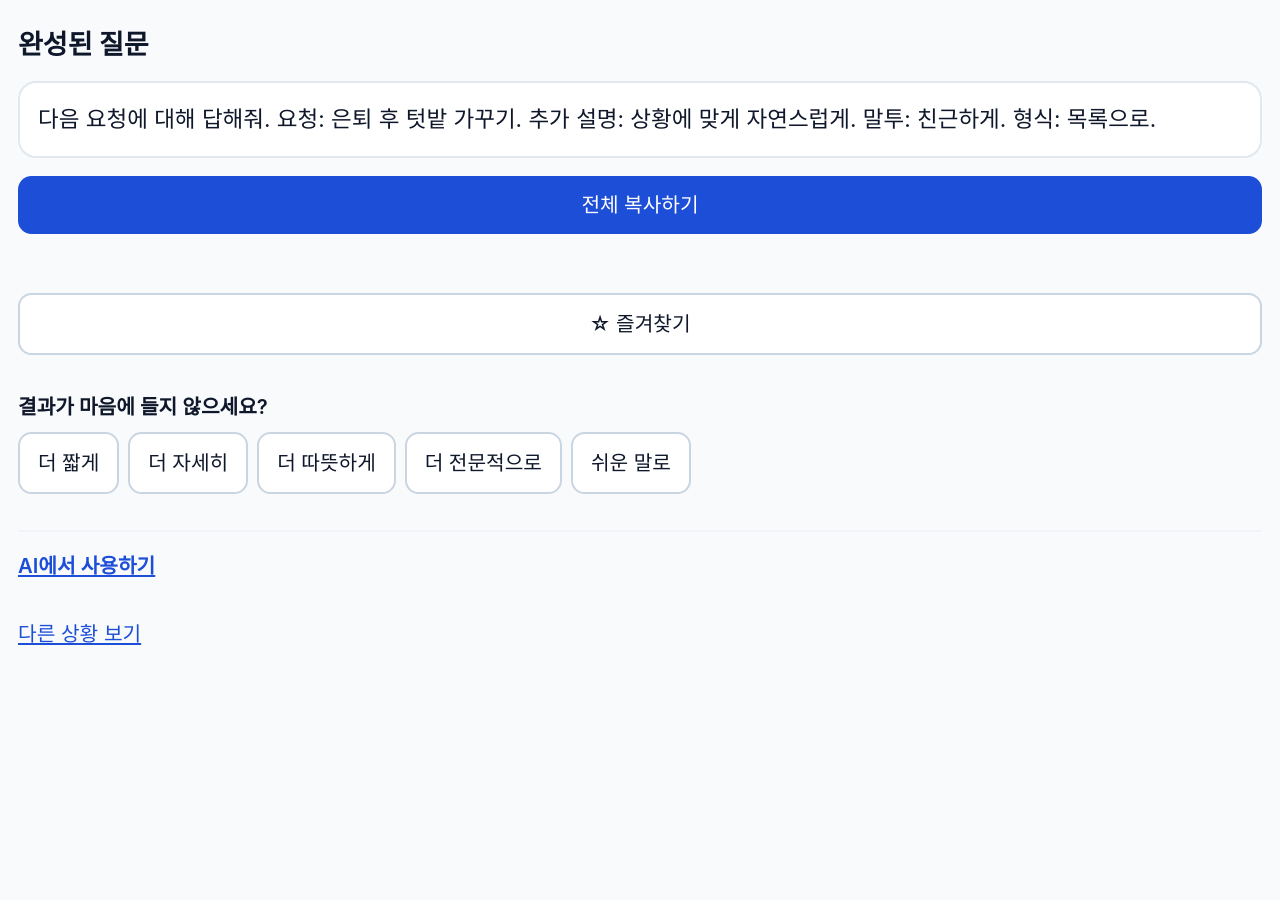
ResultPage › 전체 복사하기를 누르면 클립보드에 완성된 프롬프트가 복사된다
This screenshot has width=1280, height=900.
Click the button "전체 복사하기" at (640, 205), box top-left (18, 176), bottom-right (1262, 234)
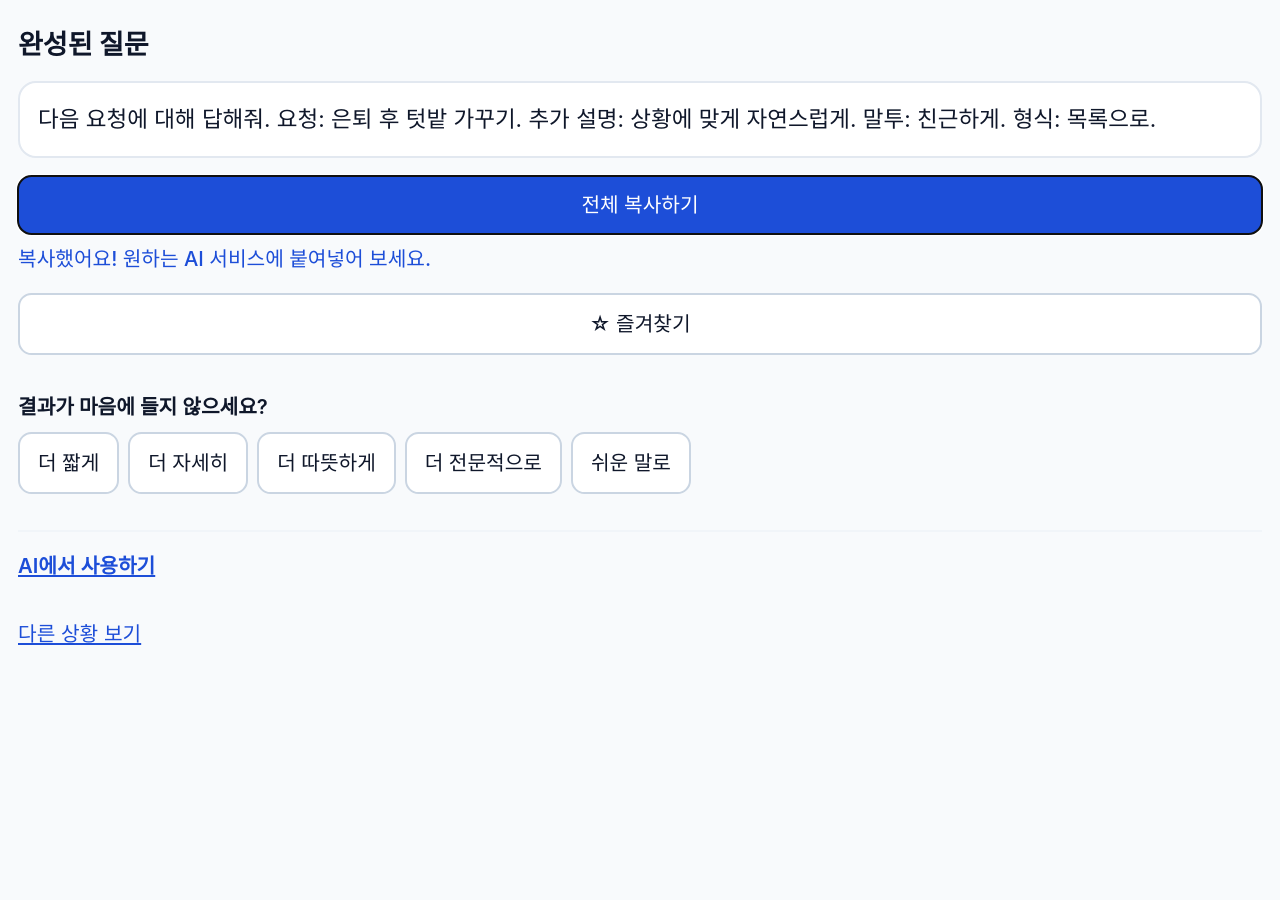
Check: the text "복사했어요! 원하는 AI 서비스에 붙여넣어 보세요." is shown, box top-left (18, 246), bottom-right (431, 271)
